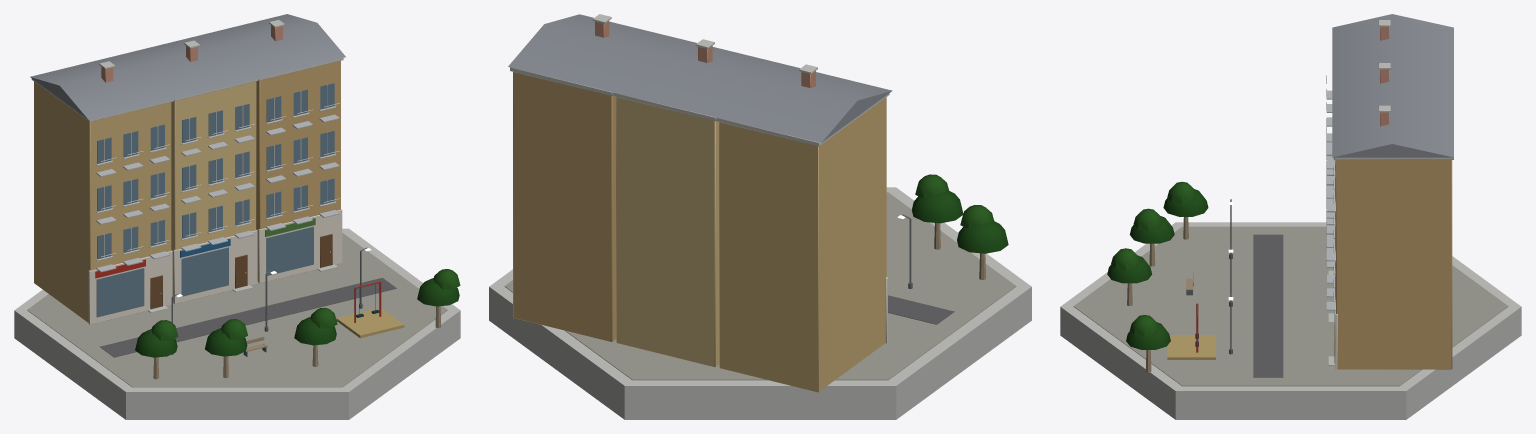
The model's file is housing_arab.glb.
3 renders of one model, left to right at view 1: azimuth 30°, elevation 25°; view 2: azimuth 150°, elevation 25°; view 3: azimuth 270°, elevation 25°, orthographic. The views are drawn at different scales.
Visible parts, largest first — view 1: plaster, pavers, wall_concrete, glass, roof_slate, stone, leaf, metal, asphalt, wood, paint, sandbag (+2 smaller); view 2: plaster, wall_concrete, roof_slate, pavers, leaf, asphalt, brick; view 3: pavers, plaster, wall_concrete, roof_slate, leaf, asphalt, metal, sandbag, wood.
Part boxes in pixels (x1=…): plaster: x1=34, y1=60, x2=340, y2=322; pavers: x1=27, y1=233, x2=447, y2=387; wall_concrete: x1=14, y1=20, x2=460, y2=419; glass: x1=96, y1=83, x2=334, y2=317; roof_slate: x1=30, y1=14, x2=345, y2=119; stone: x1=88, y1=209, x2=342, y2=324; leaf: x1=135, y1=269, x2=460, y2=357; metal: x1=96, y1=103, x2=339, y2=272; asphalt: x1=100, y1=277, x2=396, y2=357; wood: x1=150, y1=234, x2=441, y2=379; paint: x1=95, y1=218, x2=381, y2=322; sandbag: x1=336, y1=308, x2=404, y2=338; plaster: x1=513, y1=72, x2=886, y2=392; wall_concrete: x1=489, y1=14, x2=1031, y2=419; roof_slate: x1=508, y1=14, x2=892, y2=142; pavers: x1=504, y1=192, x2=1016, y2=380; leaf: x1=912, y1=174, x2=1008, y2=253; asphalt: x1=888, y1=295, x2=954, y2=324; brick: x1=595, y1=21, x2=815, y2=87; pavers: x1=1073, y1=226, x2=1508, y2=386; plaster: x1=1336, y1=160, x2=1452, y2=369; wall_concrete: x1=1060, y1=20, x2=1521, y2=419; roof_slate: x1=1332, y1=14, x2=1453, y2=157; leaf: x1=1107, y1=181, x2=1208, y2=349; asphalt: x1=1253, y1=234, x2=1283, y2=377; metal: x1=1326, y1=75, x2=1335, y2=310; sandbag: x1=1167, y1=335, x2=1215, y2=359; wood: x1=1127, y1=217, x2=1334, y2=372.
Bounding box in the file's own units: 21.3 × 15.9 × 24.6.
